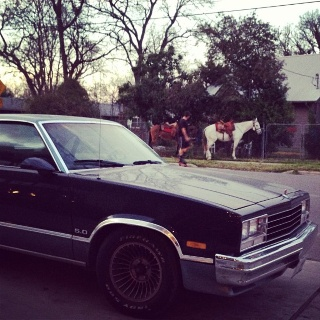without_mask: (182, 110, 191, 118)
